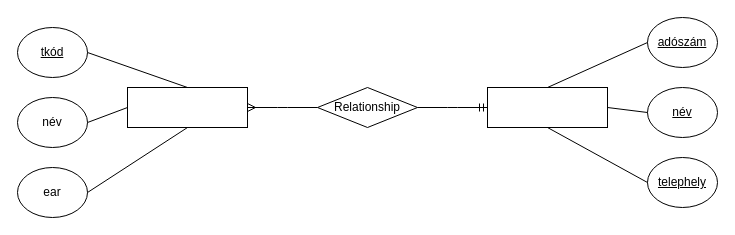
This 735x235 diagram has some shape labels left out. The centre of each missing label's shape, as x and y in pixels:
Gyártó: [547,107]
Termék: [187,107]
